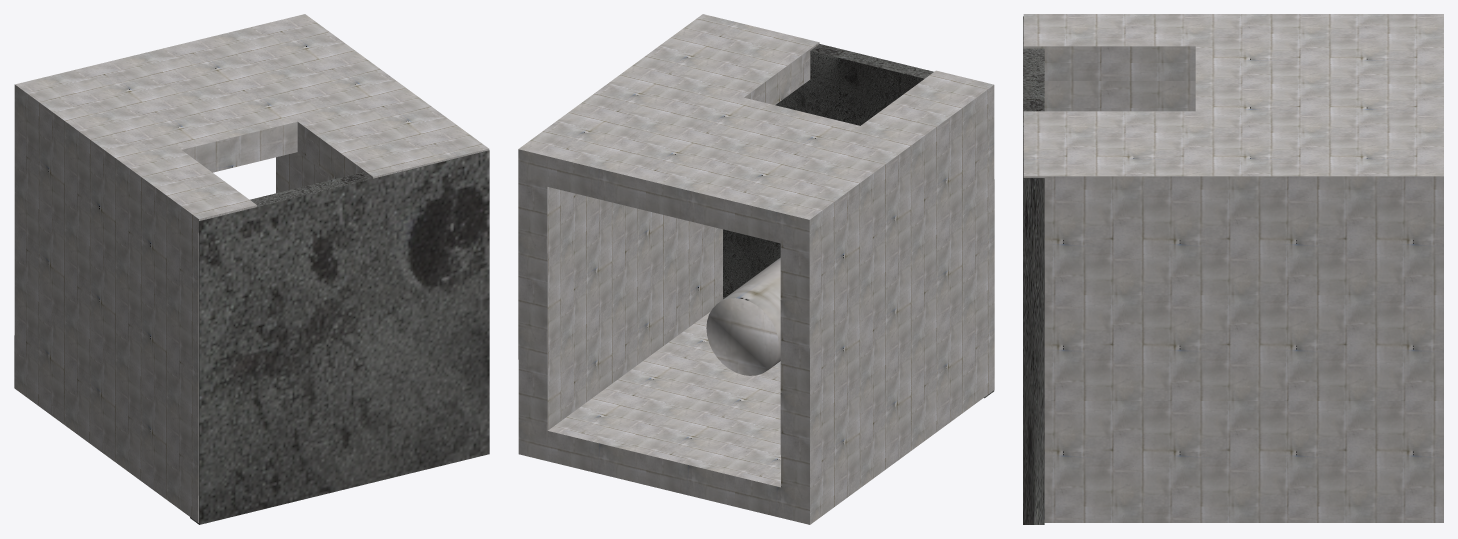
The model's file is building.dae.
3 renders of one model, left to right at view 1: azimuth 30°, elevation 25°; view 2: azimuth 150°, elevation 25°; view 3: azimuth 270°, elevation 25°, orthographic. The views are drawn at different scales.
Visible parts, largest first — view 1: Plane.002, Cube; view 2: Plane.002, Cube, Cylinder; view 3: Plane.002, Cube.
Boxes of the visible parts, x1,y1,x2,y2 form: Plane.002: (14,14,489,522); Cube: (190,150,489,524); Plane.002: (518,14,994,524); Cube: (723,44,994,398); Cylinder: (706,257,780,375); Plane.002: (1023,14,1443,522); Cube: (1023,16,1044,524).
Bounding box in the file's own units: 2.01 × 2.21 × 2.02.
Materials: 2 (2 with a texture image).
